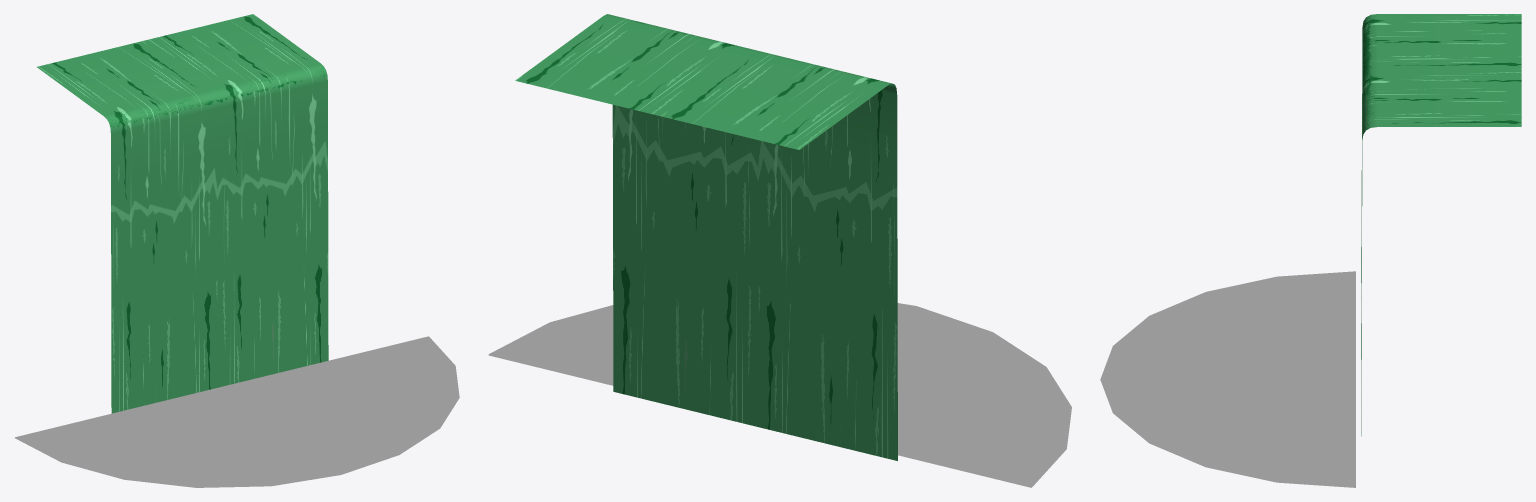
The picture shows the model from 3 angles, left to right: view 1: azimuth 30°, elevation 25°; view 2: azimuth 150°, elevation 25°; view 3: azimuth 270°, elevation 25°; orthographic projection. The views are drawn at different scales.
Visible parts, largest first — view 1: Box033, pCylinder2, pCylinder1; view 2: Box033, pCylinder2; view 3: pCylinder2, Box033, BordeCascada1.
Boxes of the visible parts, left/top/right/bottom form: Box033: left=37, top=14, right=328, bottom=413; pCylinder2: left=15, top=336, right=459, bottom=487; pCylinder1: left=15, top=398, right=459, bottom=487; Box033: left=515, top=14, right=897, bottom=460; pCylinder2: left=488, top=303, right=1071, bottom=486; pCylinder2: left=1100, top=271, right=1355, bottom=487; Box033: left=1361, top=14, right=1521, bottom=436; BordeCascada1: left=1363, top=16, right=1373, bottom=133.
Size of the model in its own units: 2442 by 1644 by 2012.
